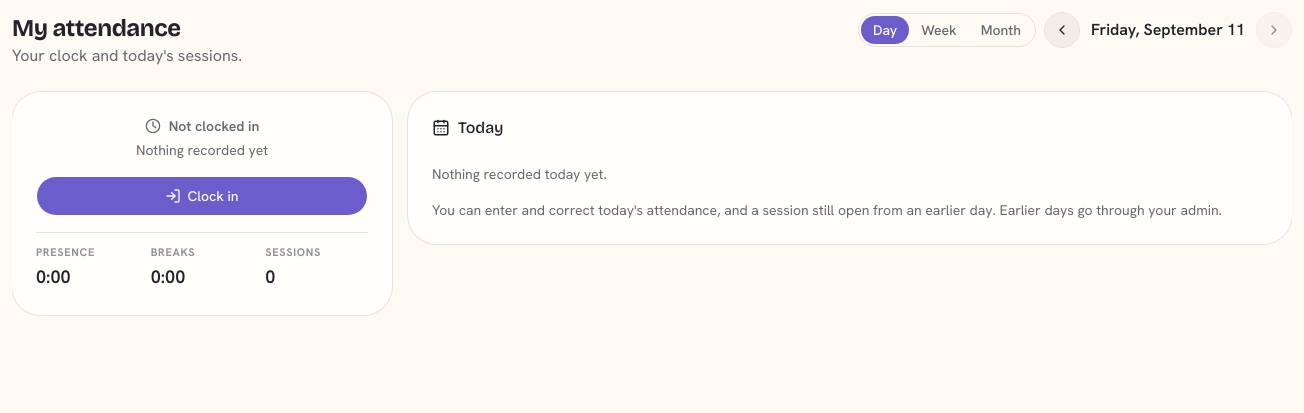
Test case: MyAttendanceScreen › a day and the self-service window › offers a correction on an earlier day still holding an open session
The image size is (1304, 413).
Click the button named "Previous": [1062, 30] box [1044, 12, 1080, 48]
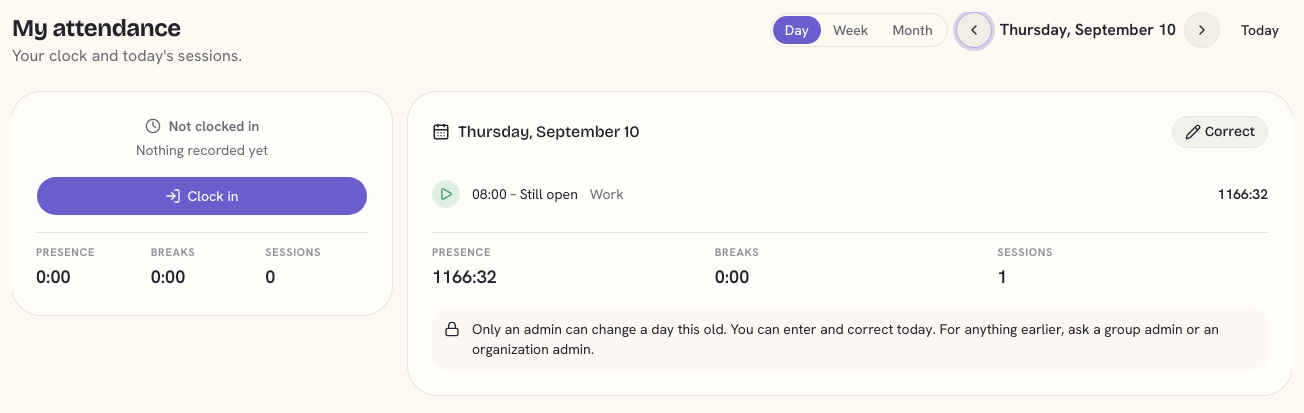
Check: the button "Correct" is shown, box [1172, 116, 1268, 148]
